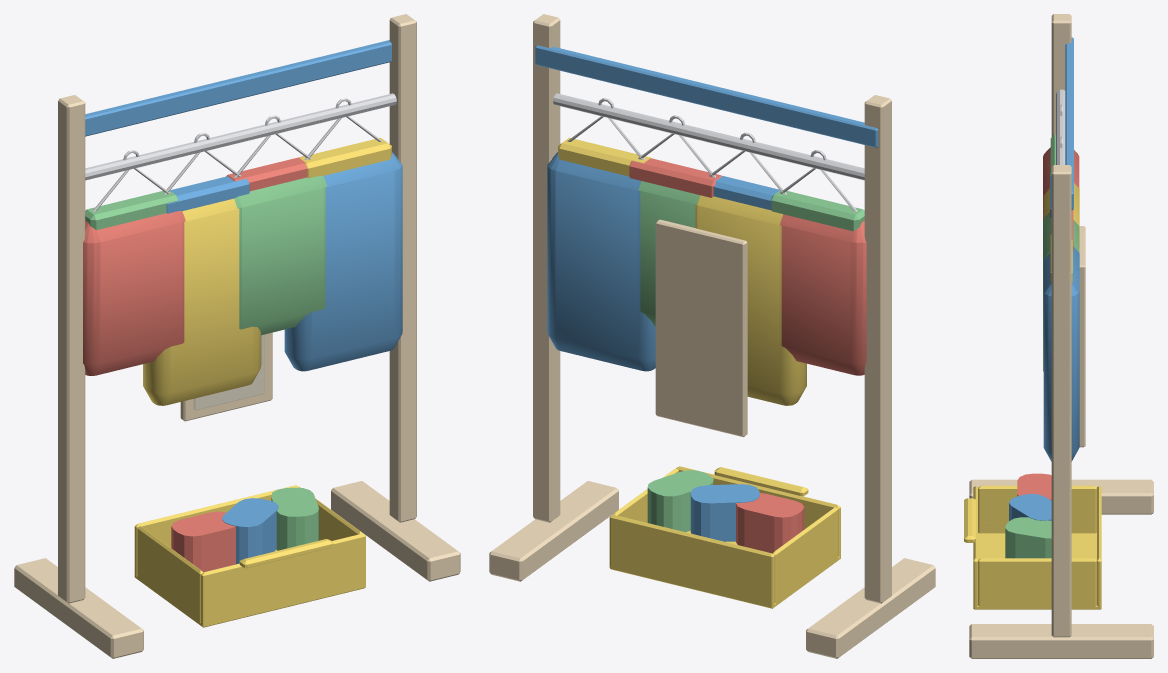
File: nursery-and-primary-classroom-dressing-up-rail-54682750__35005.glb
3 renders of one model, left to right at view 1: azimuth 30°, elevation 25°; view 2: azimuth 150°, elevation 25°; view 3: azimuth 270°, elevation 25°, orthographic. The views are drawn at different scales.
Visible parts, largest first — view 1: dressing-up-rail; view 2: dressing-up-rail; view 3: dressing-up-rail.
Boxes of the visible parts, x1,y1,x2,y2 form: dressing-up-rail: (14,14,460,658); dressing-up-rail: (489,14,935,658); dressing-up-rail: (964,14,1153,658).
Size of the model in its own units: 0.94 by 1.34 by 0.473.
